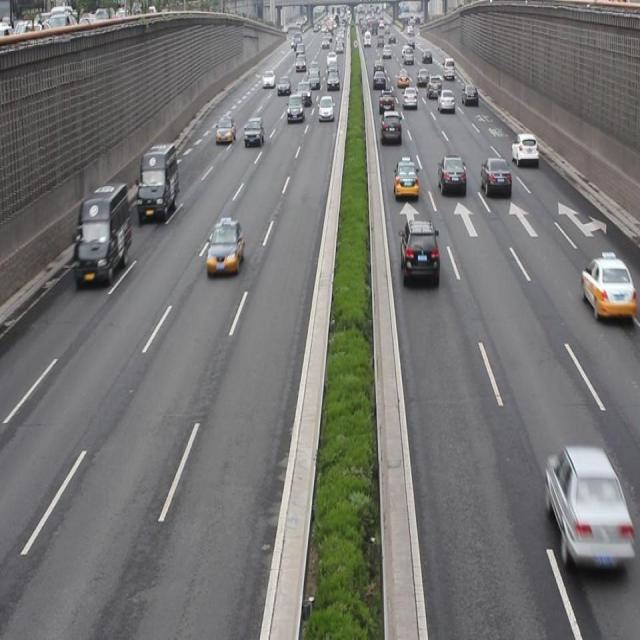car: (544, 442, 629, 570), (578, 252, 640, 322), (400, 217, 440, 284), (206, 219, 244, 274), (480, 154, 512, 198), (438, 152, 466, 198), (392, 157, 418, 201), (511, 130, 538, 167), (243, 116, 265, 148), (216, 114, 236, 144), (286, 91, 305, 122)
truck: (73, 181, 130, 285), (136, 143, 180, 221), (379, 106, 402, 144)
